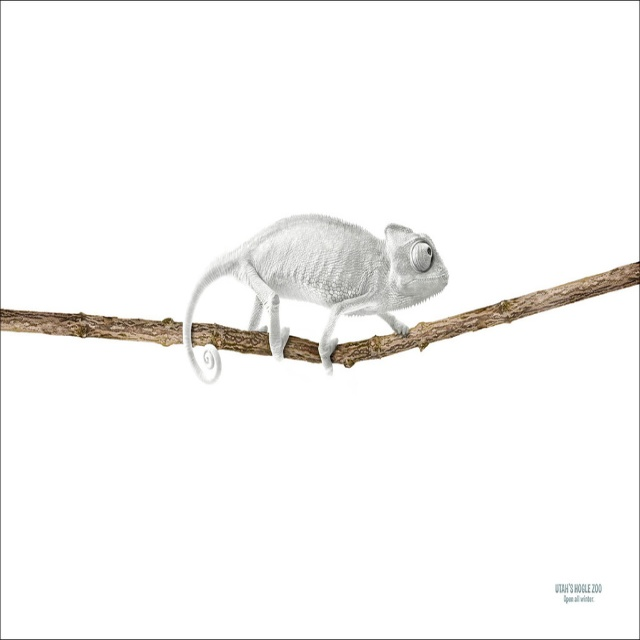Lizard: (163, 212, 451, 383)
